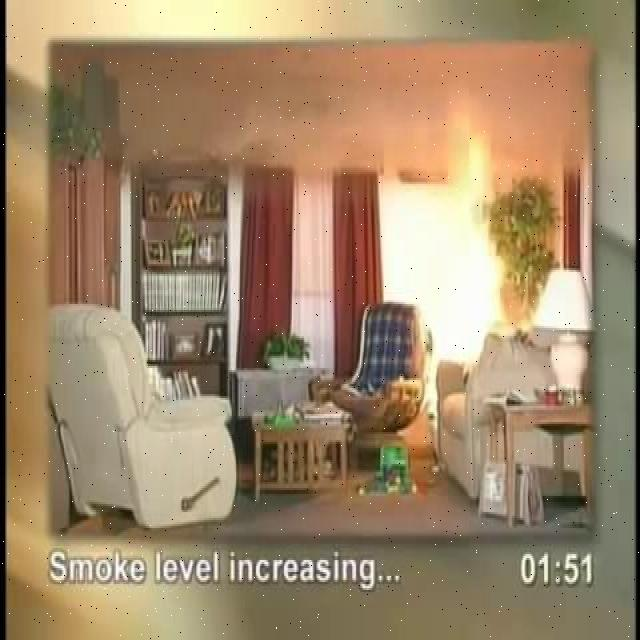fire: (402, 118, 507, 350)
